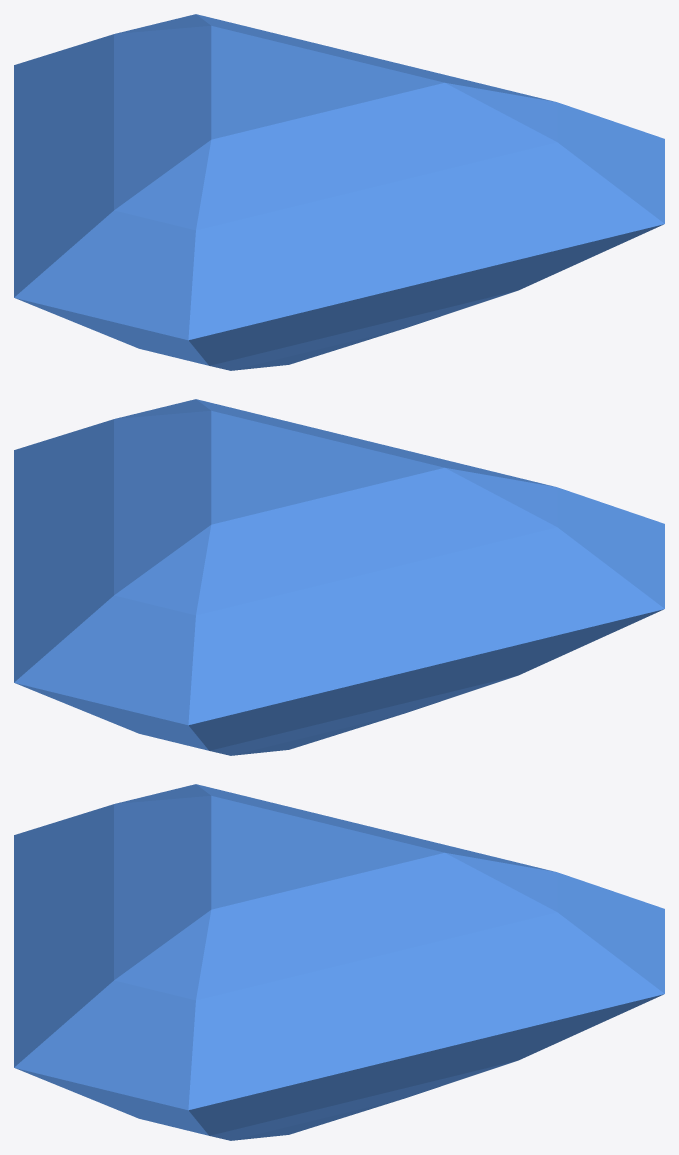
The model's file is gem_sapphire.glb.
3 renders of one model, top to bottom at view 1: azimuth 30°, elevation 25°; view 2: azimuth 150°, elevation 25°; view 3: azimuth 270°, elevation 25°, orthographic.
Visible parts, largest first — view 1: gem_trillion; view 2: gem_trillion; view 3: gem_trillion.
Part boxes in pixels (<box>): gem_trillion: <box>14,14,664,370</box>; gem_trillion: <box>14,399,664,755</box>; gem_trillion: <box>14,784,664,1140</box>.
Size of the model in its own units: 1.93 by 0.8 by 1.67.
